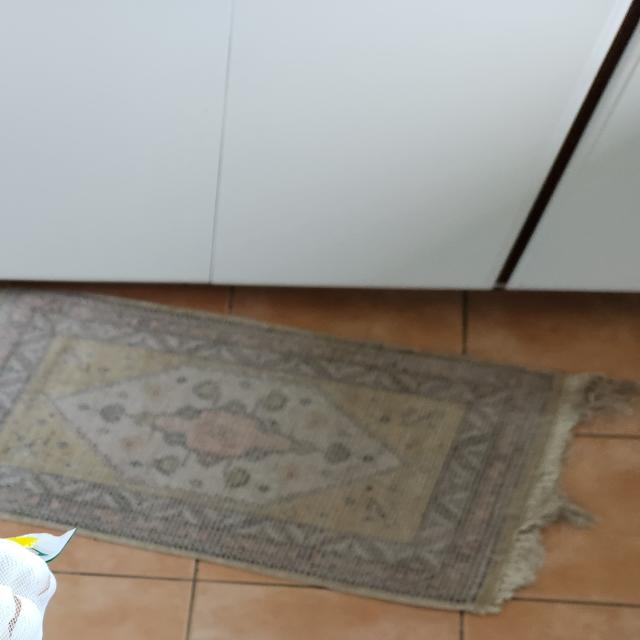garlic: (0, 527, 69, 640)
